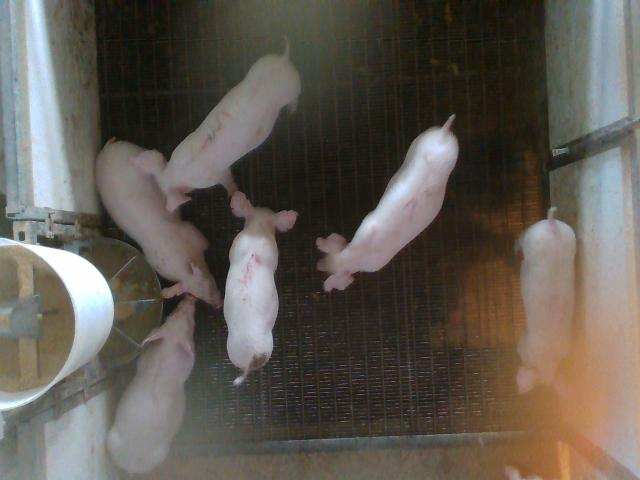pig-3: (129, 46, 300, 211)
pig-5: (224, 191, 298, 384)
